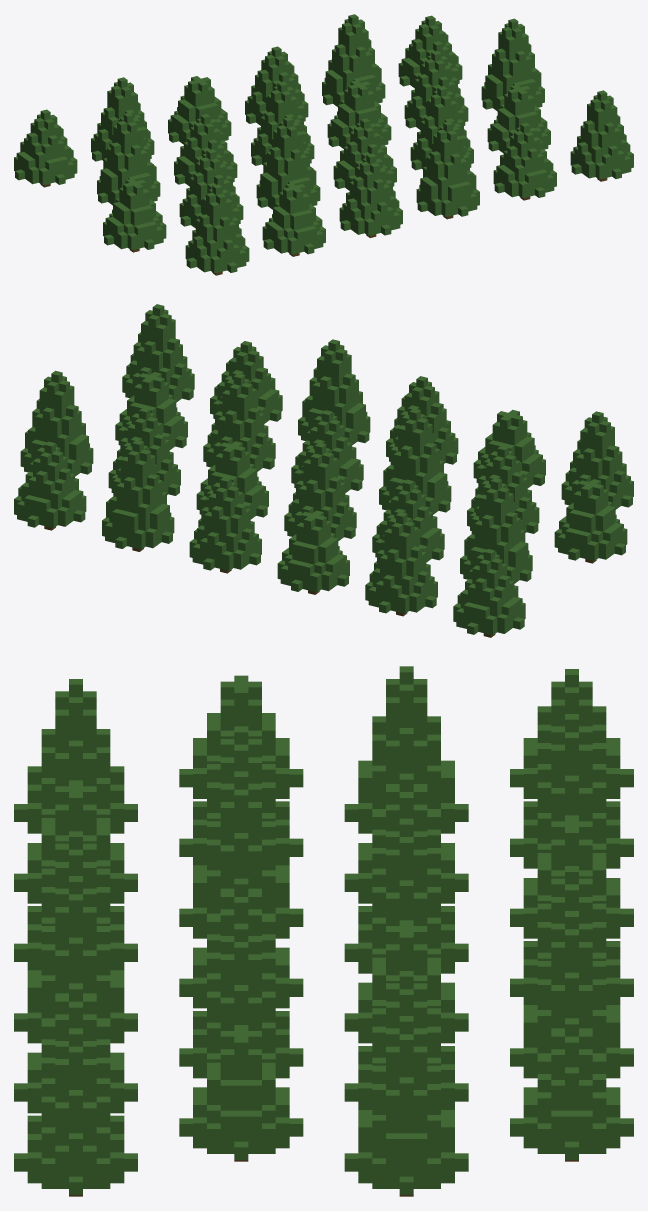
File: treeline.obj
3 renders of one model, top to bottom at view 1: azimuth 30°, elevation 25°; view 2: azimuth 150°, elevation 25°; view 3: azimuth 270°, elevation 25°, orthographic. The views are drawn at different scales.
Size of the model in its own units: 7.5 by 1.4 by 4.5.
Materials: 1 (1 with a texture image).
